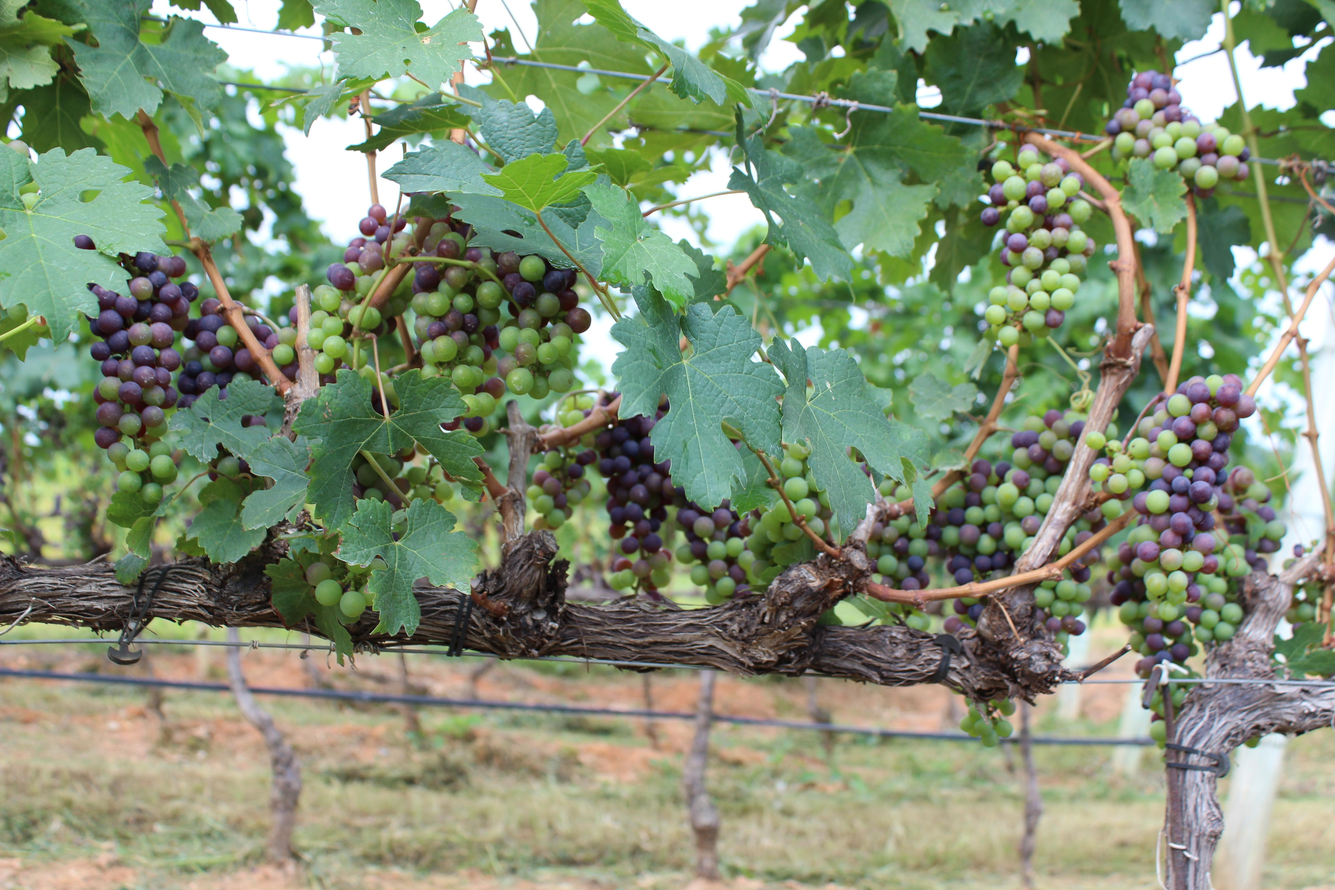leaf: (612, 287, 782, 507), (0, 148, 165, 340), (294, 369, 483, 528), (768, 338, 905, 537), (729, 123, 852, 280), (337, 499, 476, 635), (67, 0, 227, 118), (583, 0, 750, 105), (314, 0, 483, 88), (584, 183, 697, 308), (486, 65, 631, 145), (521, 0, 653, 76), (924, 22, 1023, 116), (264, 559, 352, 664), (451, 192, 572, 268), (169, 380, 281, 462), (144, 156, 243, 242), (348, 92, 471, 152), (11, 75, 100, 153), (0, 0, 75, 92), (482, 153, 597, 213), (241, 435, 310, 529), (383, 140, 500, 195), (186, 488, 267, 563), (472, 100, 558, 165), (1121, 158, 1187, 233), (1197, 196, 1251, 282), (1118, 0, 1219, 41), (544, 209, 603, 276), (909, 371, 978, 422), (678, 239, 727, 301), (201, 479, 230, 501), (492, 40, 518, 56), (500, 32, 508, 38), (232, 483, 237, 487), (0, 96, 3, 98), (229, 398, 230, 401), (493, 35, 496, 36), (192, 406, 193, 407), (507, 168, 508, 168)
